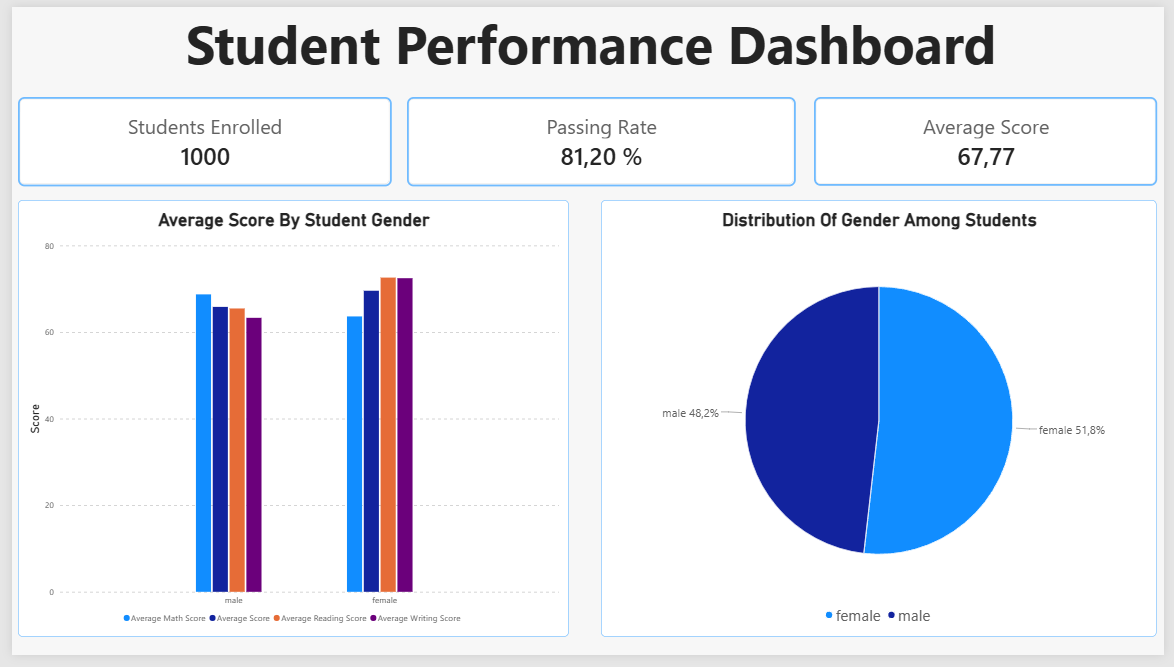

Layout of this report page (visuals, bound fields, positions):
{"tool":"powerbi","page":{"name":"General Info","canvas":[1920,1080],"ordinal":0},"visuals":[{"type":"textbox","box":[10.2,0,1909.8,135.7],"z":0},{"type":"cardVisual","fields":{"Data":["CountNonNull(StudentsPerformance1.ID)"]},"box":[10.2,150.3,623,148.8],"z":1000},{"type":"cardVisual","fields":{"Data":["StudentsPerformance1.passingRate"]},"box":[658,150.3,647.8,148.8],"z":2000},{"type":"cardVisual","fields":{"Data":["Avg(StudentsPerformance1.average score)"]},"box":[1335.9,150.8,572.3,148.1],"z":3000},{"type":"clusteredColumnChart","title":"Average Score By Student Gender","fields":{"Category":["StudentsPerformance1.gender"],"Y":["Avg(StudentsPerformance1.math score)","Avg(StudentsPerformance1.average score)","Avg(StudentsPerformance1.reading score)","Avg(StudentsPerformance1.writing score)"]},"box":[10.2,322.4,917.7,728],"z":4000},{"type":"pieChart","title":"Distribution Of Gender Among Students","fields":{"Category":["StudentsPerformance1.gender"],"Y":["CountNonNull(StudentsPerformance1.gender)"]},"box":[981.9,322.4,926.4,728],"z":5000}]}

Visuals, with their boxes in screenshot pixels (x1, y1, x2, y2), scaled from the page's 1920x1080 canvas onto the 1174x667 screenshot:
textbox: 6/0/1173/84
cardVisual - CountNonNull(StudentsPerformance1.ID): 6/93/387/185
cardVisual - StudentsPerformance1.passingRate: 402/93/798/185
cardVisual - Avg(StudentsPerformance1.average score): 817/93/1167/185
"Average Score By Student Gender" clusteredColumnChart: 6/199/567/649
"Distribution Of Gender Among Students" pieChart: 600/199/1167/649
